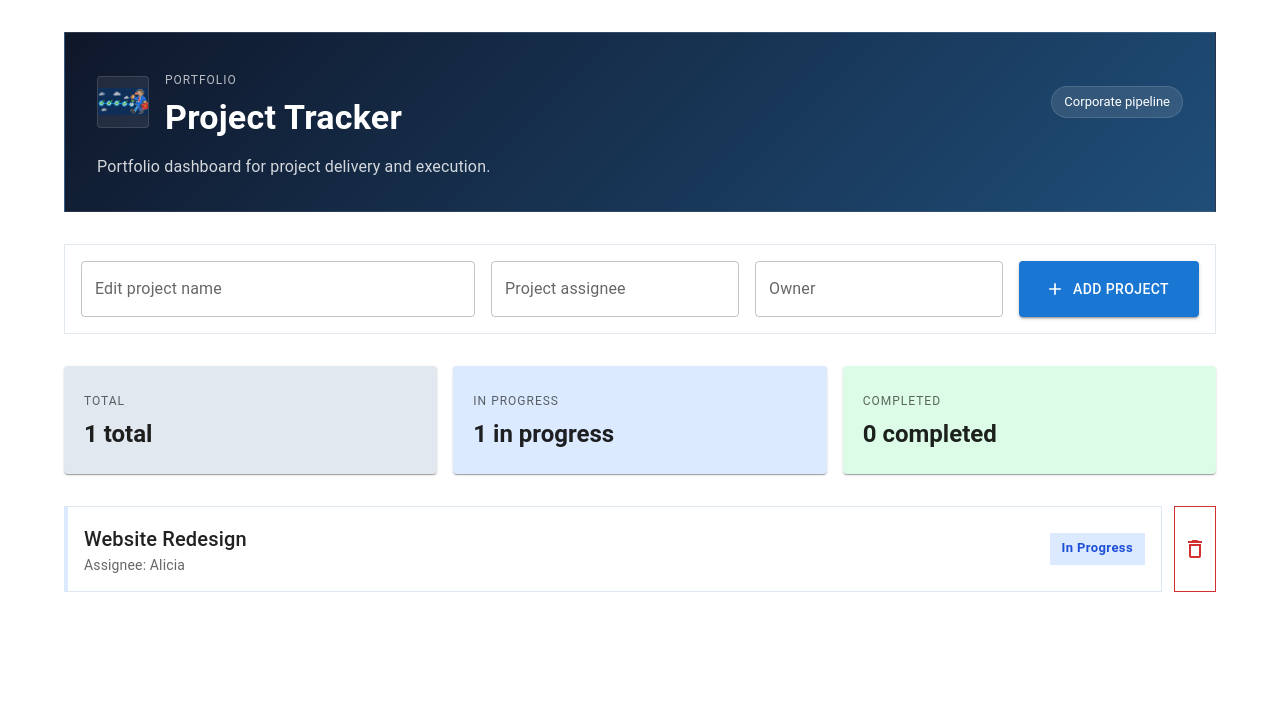
Test: adds a task to the selected project
Click the button with aria-label "select website redesign" at (165,539), box left=64, top=506, right=1162, bottom=592
(page scrolled)
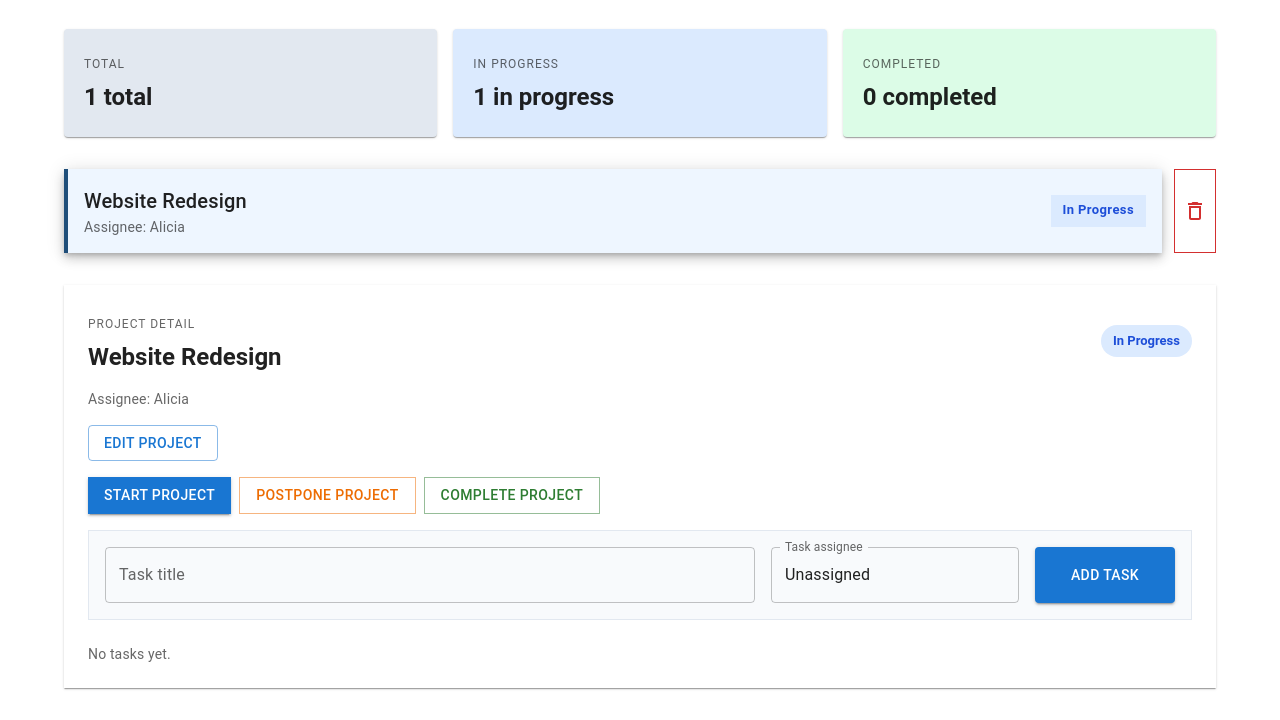
Type "Publish launch plan" into the field labelled "Task title" at (430,575), box left=105, top=547, right=755, bottom=603
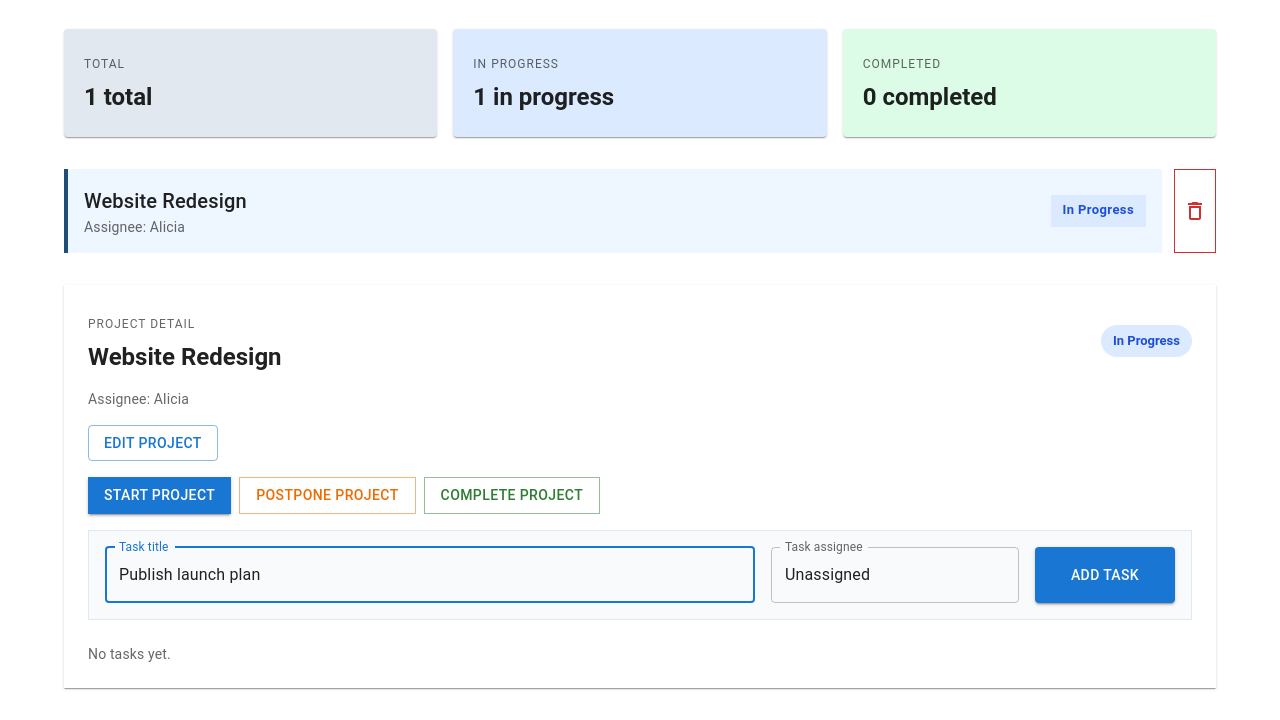
Click the button "Add task" at (1105,575), box left=1035, top=547, right=1175, bottom=603
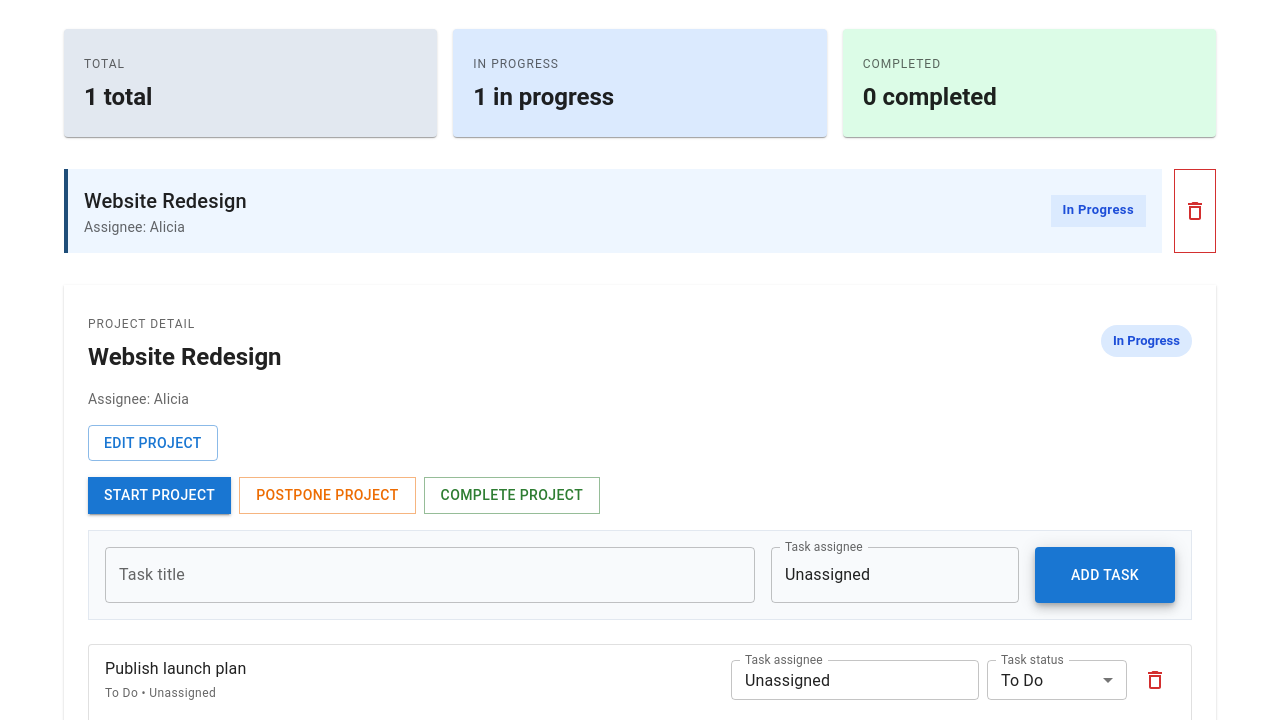
Check: the text "Publish launch plan" is shown, box left=105, top=657, right=246, bottom=681
